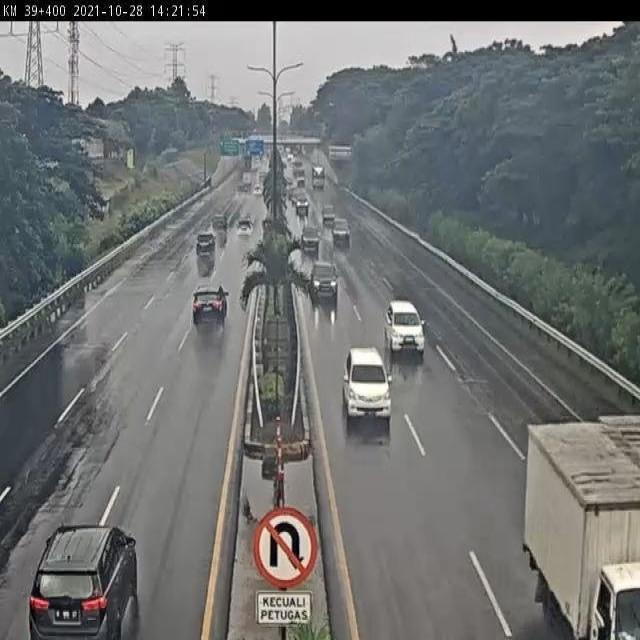Bus: (312, 165, 324, 190)
Car: (25, 524, 144, 638), (338, 345, 396, 425), (385, 300, 426, 356), (192, 282, 230, 330), (310, 262, 340, 302), (300, 225, 322, 251), (236, 212, 256, 238), (332, 219, 349, 248), (195, 233, 217, 255), (322, 203, 335, 226)
Truck: (521, 415, 640, 640), (212, 196, 242, 238)
